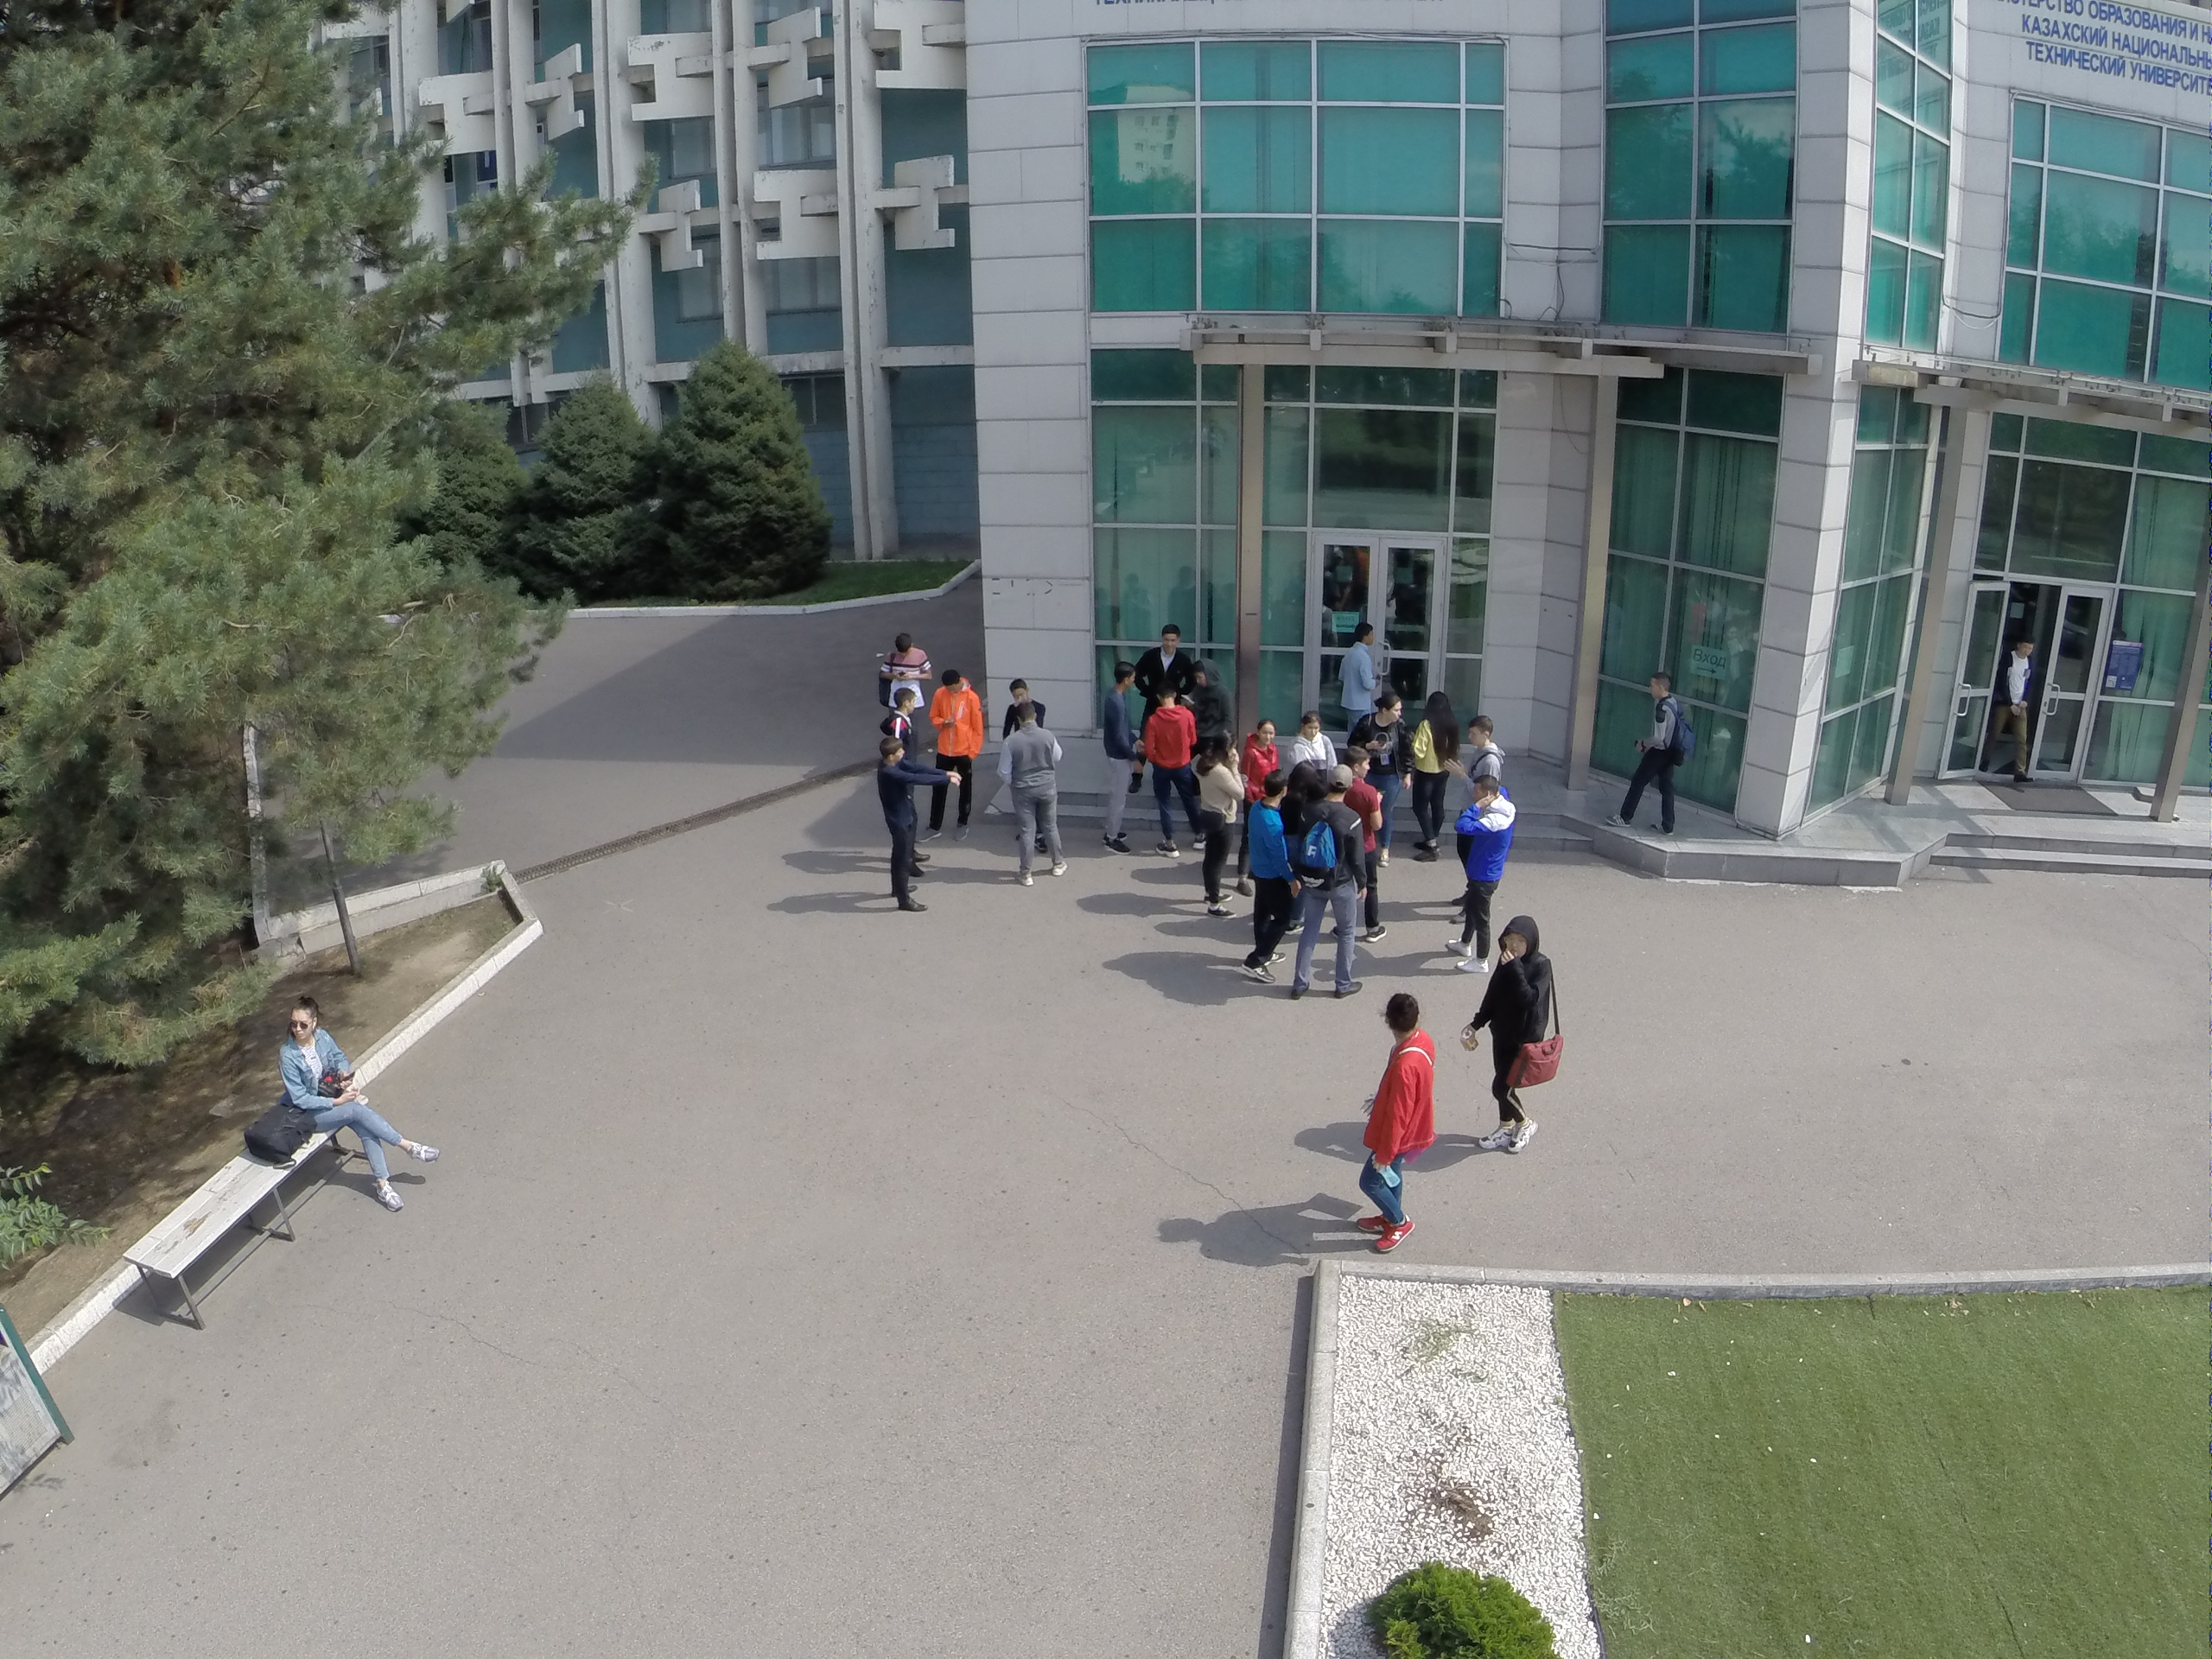person: (279, 988, 442, 1216), (1346, 990, 1438, 1266), (1462, 909, 1560, 1159), (1289, 766, 1363, 1005), (1433, 774, 1515, 974), (872, 734, 958, 908), (1611, 677, 1693, 840), (1006, 700, 1070, 890), (1243, 769, 1289, 988), (1412, 690, 1465, 868), (1147, 683, 1198, 865), (1092, 664, 1138, 863), (1983, 637, 2043, 782), (1198, 734, 1243, 925), (937, 671, 982, 847), (1337, 618, 1387, 721), (1380, 697, 1406, 861), (1466, 719, 1502, 788), (1149, 624, 1184, 686), (891, 683, 924, 739), (890, 626, 924, 681), (1250, 723, 1279, 782), (1300, 709, 1327, 760)
